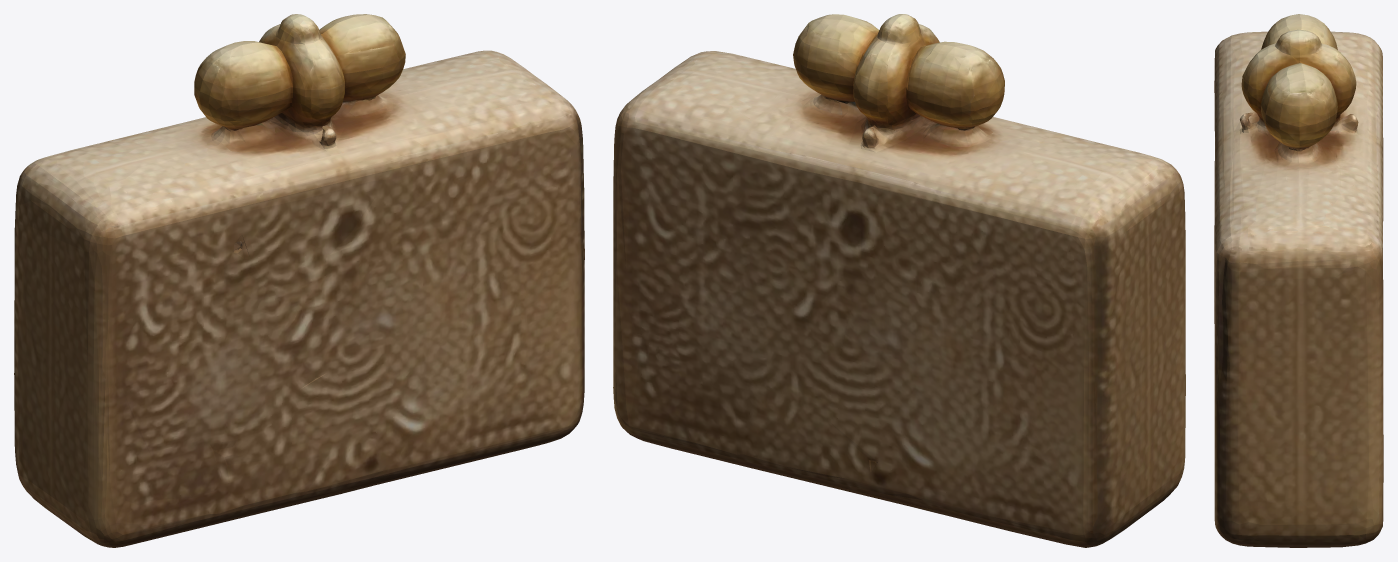
The model's file is bag_clutch_gold_2.glb.
3 views of the same model, side by side, from view 1: azimuth 30°, elevation 25°; view 2: azimuth 150°, elevation 25°; view 3: azimuth 270°, elevation 25° (orthographic). The views are drawn at different scales.
Parts seen in each view (by area): view 1: geometry_0; view 2: geometry_0; view 3: geometry_0.
Boxes of the visible parts, left/top/right/bottom form: geometry_0: left=14, top=14, right=584, bottom=547; geometry_0: left=613, top=14, right=1185, bottom=547; geometry_0: left=1214, top=14, right=1383, bottom=547.
Bounding box in the file's own units: 0.986 × 0.8684 × 0.316.
1 material, 1 textured.
